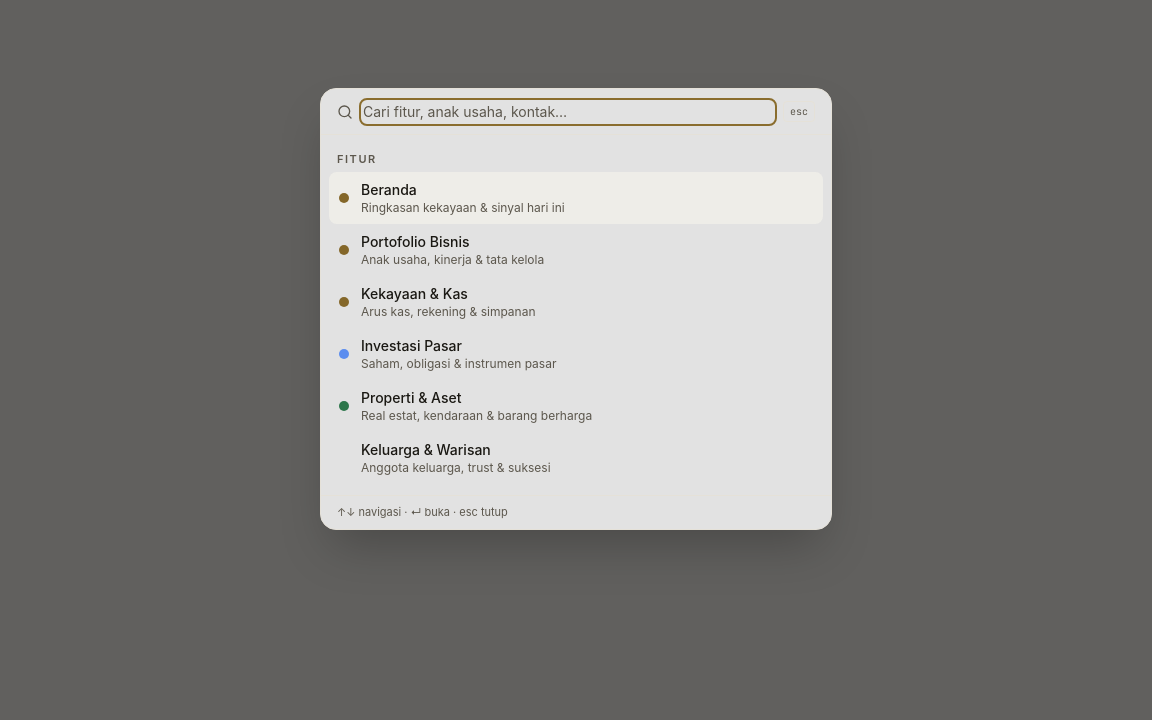
Test: CommandPalette › filters entries by the typed query (case-insensitive, matches label/sub/tag)
// "portofolio" appears only in the Portofolio Bisnis label across the menu.
Step 1. Type "PORTOFOLIO" into the dropdown → (568, 112), box [363,102,773,122]
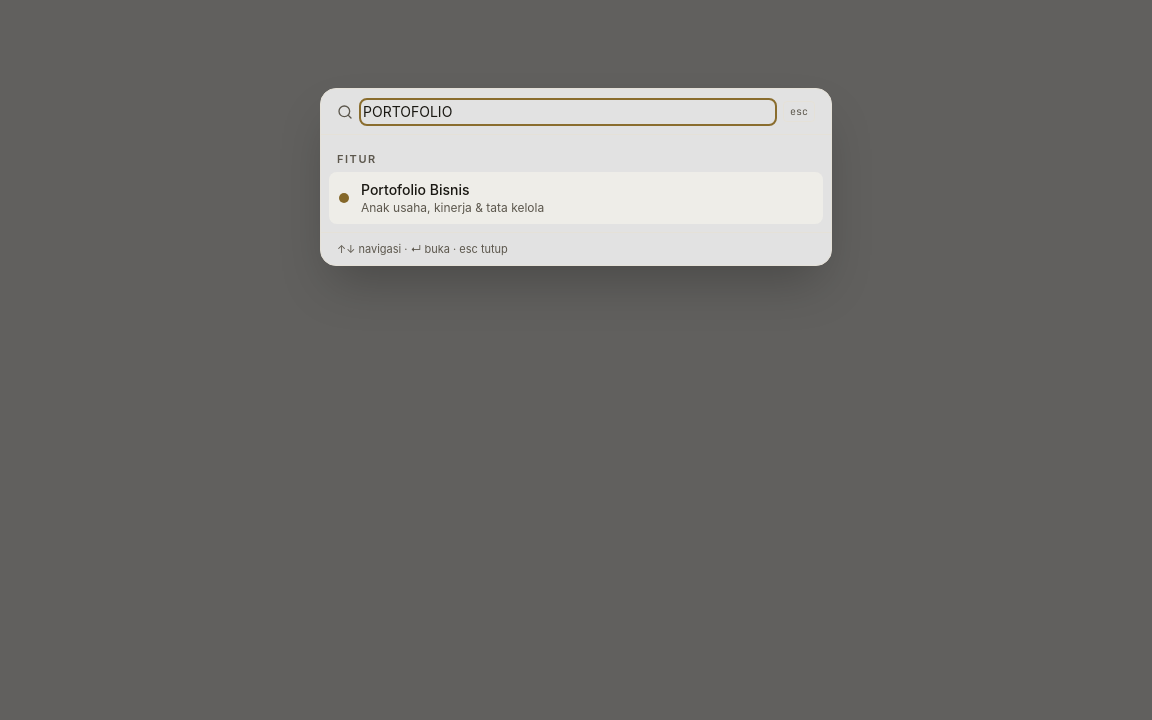
Expected: the option "Portofolio Bisnis Anak usaha, kinerja & tata kelola" is shown, [329,172,823,224]
Now the option "Beranda" is gone
Now the option "Kekayaan & Kas" is gone
